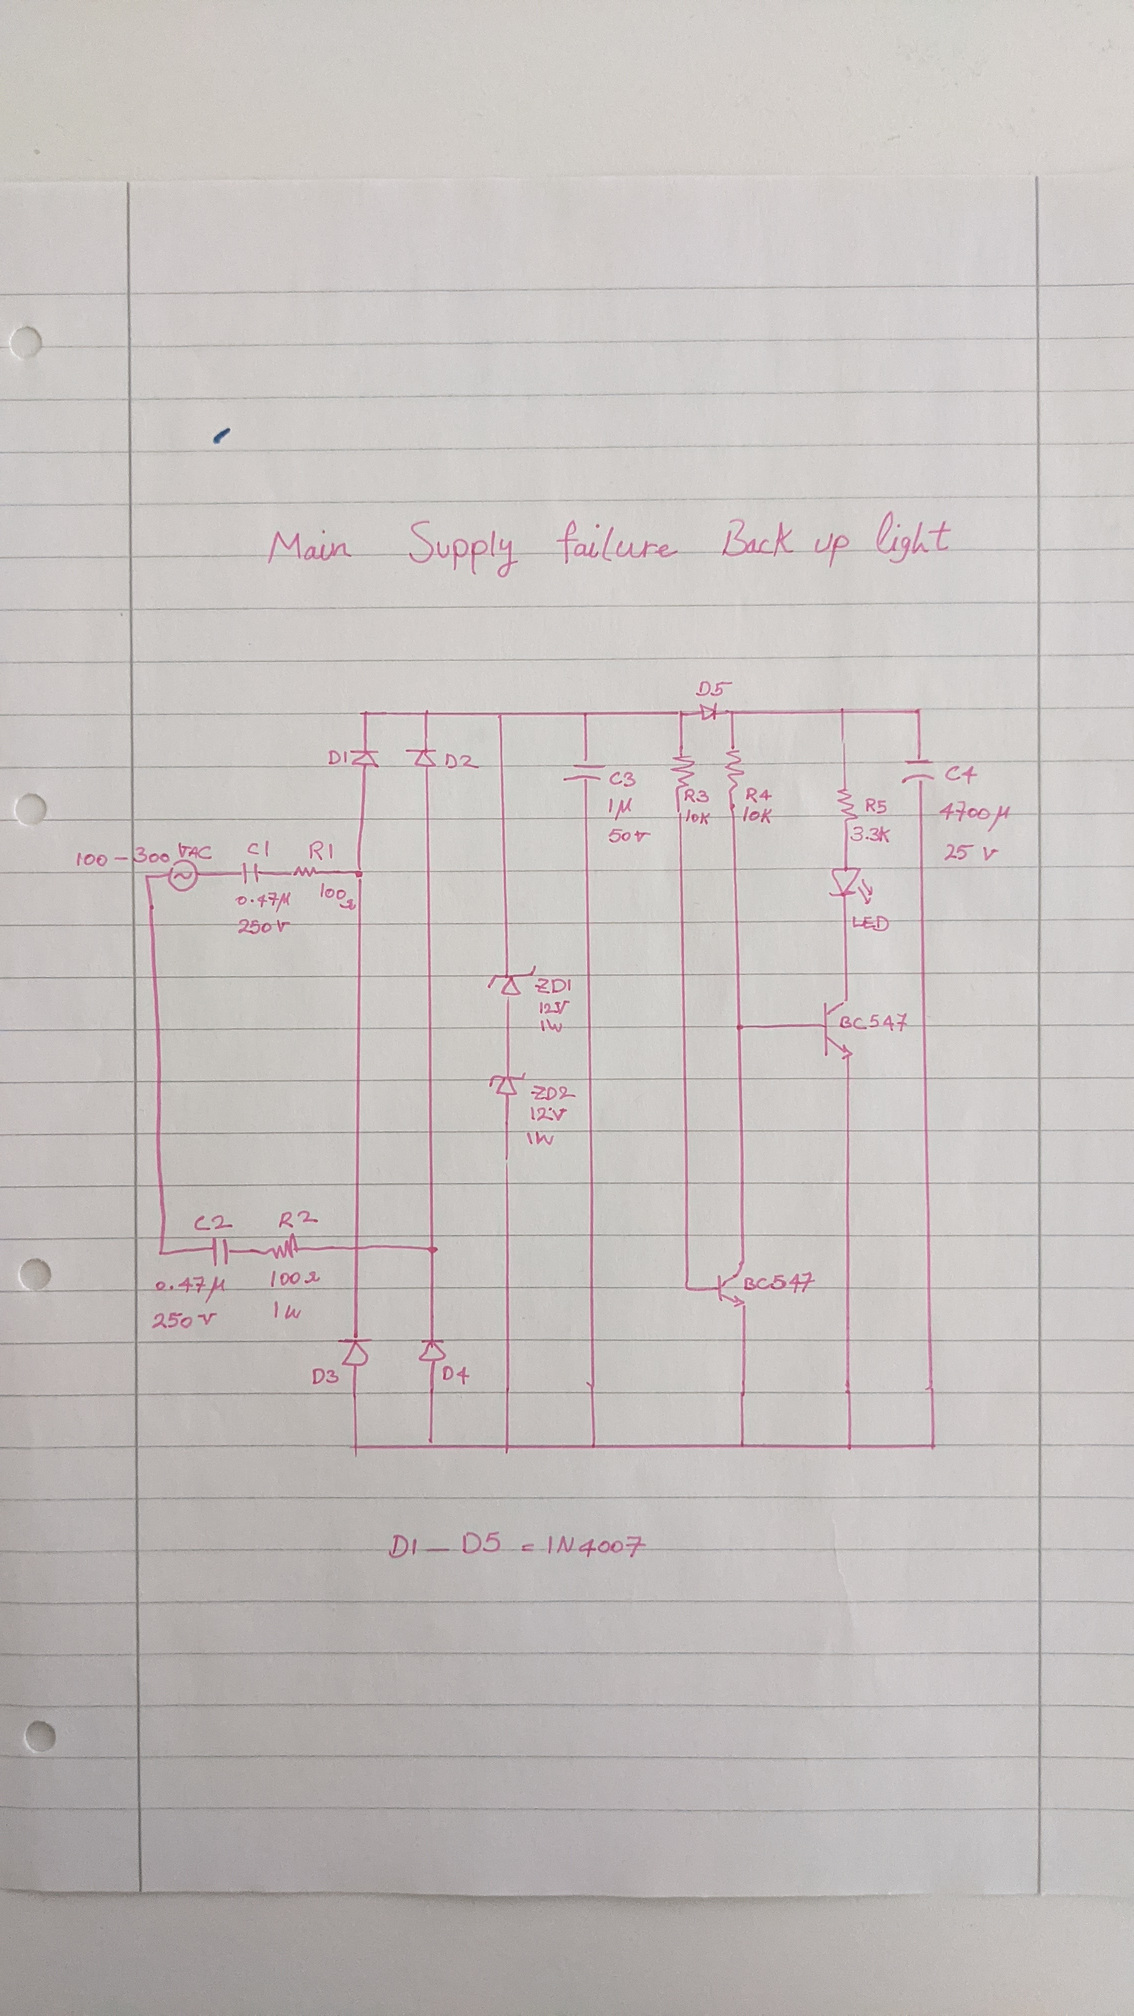capacitor.unpolarized: (559, 757, 608, 786), (899, 756, 939, 786), (237, 858, 267, 888), (208, 1234, 233, 1268)
crossover: (348, 1241, 366, 1254)
diode: (485, 964, 539, 998), (336, 1333, 377, 1368), (487, 1070, 528, 1097), (415, 1336, 449, 1364), (403, 746, 440, 768), (348, 748, 382, 770), (696, 701, 721, 723)
diode.light_emitting: (825, 865, 876, 906)
junction: (346, 1439, 368, 1459), (424, 1242, 443, 1259), (350, 864, 367, 883), (500, 1439, 516, 1455), (424, 1436, 440, 1452), (843, 1439, 860, 1454), (681, 1279, 695, 1296), (493, 709, 510, 723), (732, 1020, 749, 1034), (925, 1439, 942, 1452), (836, 703, 850, 719), (912, 705, 928, 719), (724, 706, 739, 720), (577, 708, 593, 721), (420, 708, 435, 721), (673, 708, 690, 720), (587, 1439, 601, 1452), (737, 1439, 750, 1452), (141, 871, 155, 885), (357, 708, 372, 720), (155, 1246, 168, 1260)
resistor: (721, 745, 746, 798), (262, 1231, 303, 1261), (667, 750, 696, 791), (834, 785, 863, 825), (288, 863, 323, 881)
text: (264, 508, 953, 580), (388, 1530, 647, 1559), (75, 840, 213, 867), (937, 799, 1011, 834), (152, 1274, 227, 1304), (742, 1270, 817, 1295), (838, 1012, 908, 1033), (150, 1310, 219, 1331), (235, 889, 292, 914), (317, 881, 357, 912), (943, 842, 1000, 863), (269, 1268, 323, 1289), (235, 917, 292, 936), (277, 1207, 320, 1230), (529, 1083, 577, 1102), (192, 1212, 235, 1232), (694, 678, 735, 699), (606, 827, 654, 845), (850, 825, 892, 845), (739, 804, 775, 827), (852, 914, 892, 933), (443, 750, 480, 771), (606, 795, 634, 822), (529, 1104, 568, 1123), (534, 976, 573, 996), (943, 764, 979, 785), (271, 1299, 305, 1321), (440, 1364, 472, 1386), (307, 839, 335, 863), (606, 770, 638, 789), (310, 1367, 341, 1386), (744, 785, 773, 804), (525, 1130, 557, 1146), (539, 1000, 570, 1016), (683, 809, 712, 827), (683, 786, 712, 804), (246, 838, 271, 858), (864, 796, 889, 814), (539, 1018, 565, 1034), (325, 748, 349, 766)
transistor: (821, 996, 858, 1062), (713, 1259, 753, 1310)
voltage.dc_ac: (168, 858, 201, 893)
